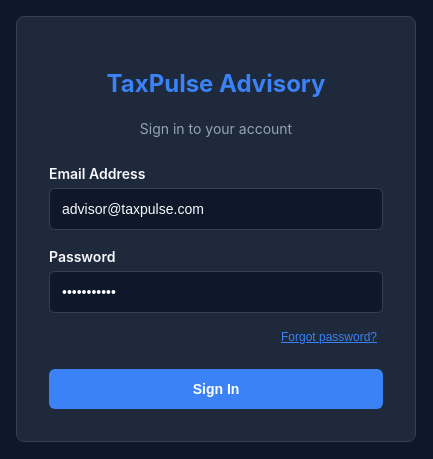
Test: SignInScreen Component › switches to mock password reset view when clicking Forgot password?
Click the button "Forgot password?" at [329, 337], box [275,329,383,345]
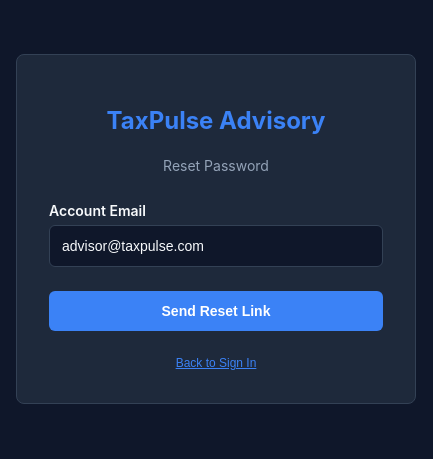
Check: the text "Reset Password" is shown, box [163,157,269,174]
Check: the button "Send Reset Link" is shown, box [49,291,383,331]
